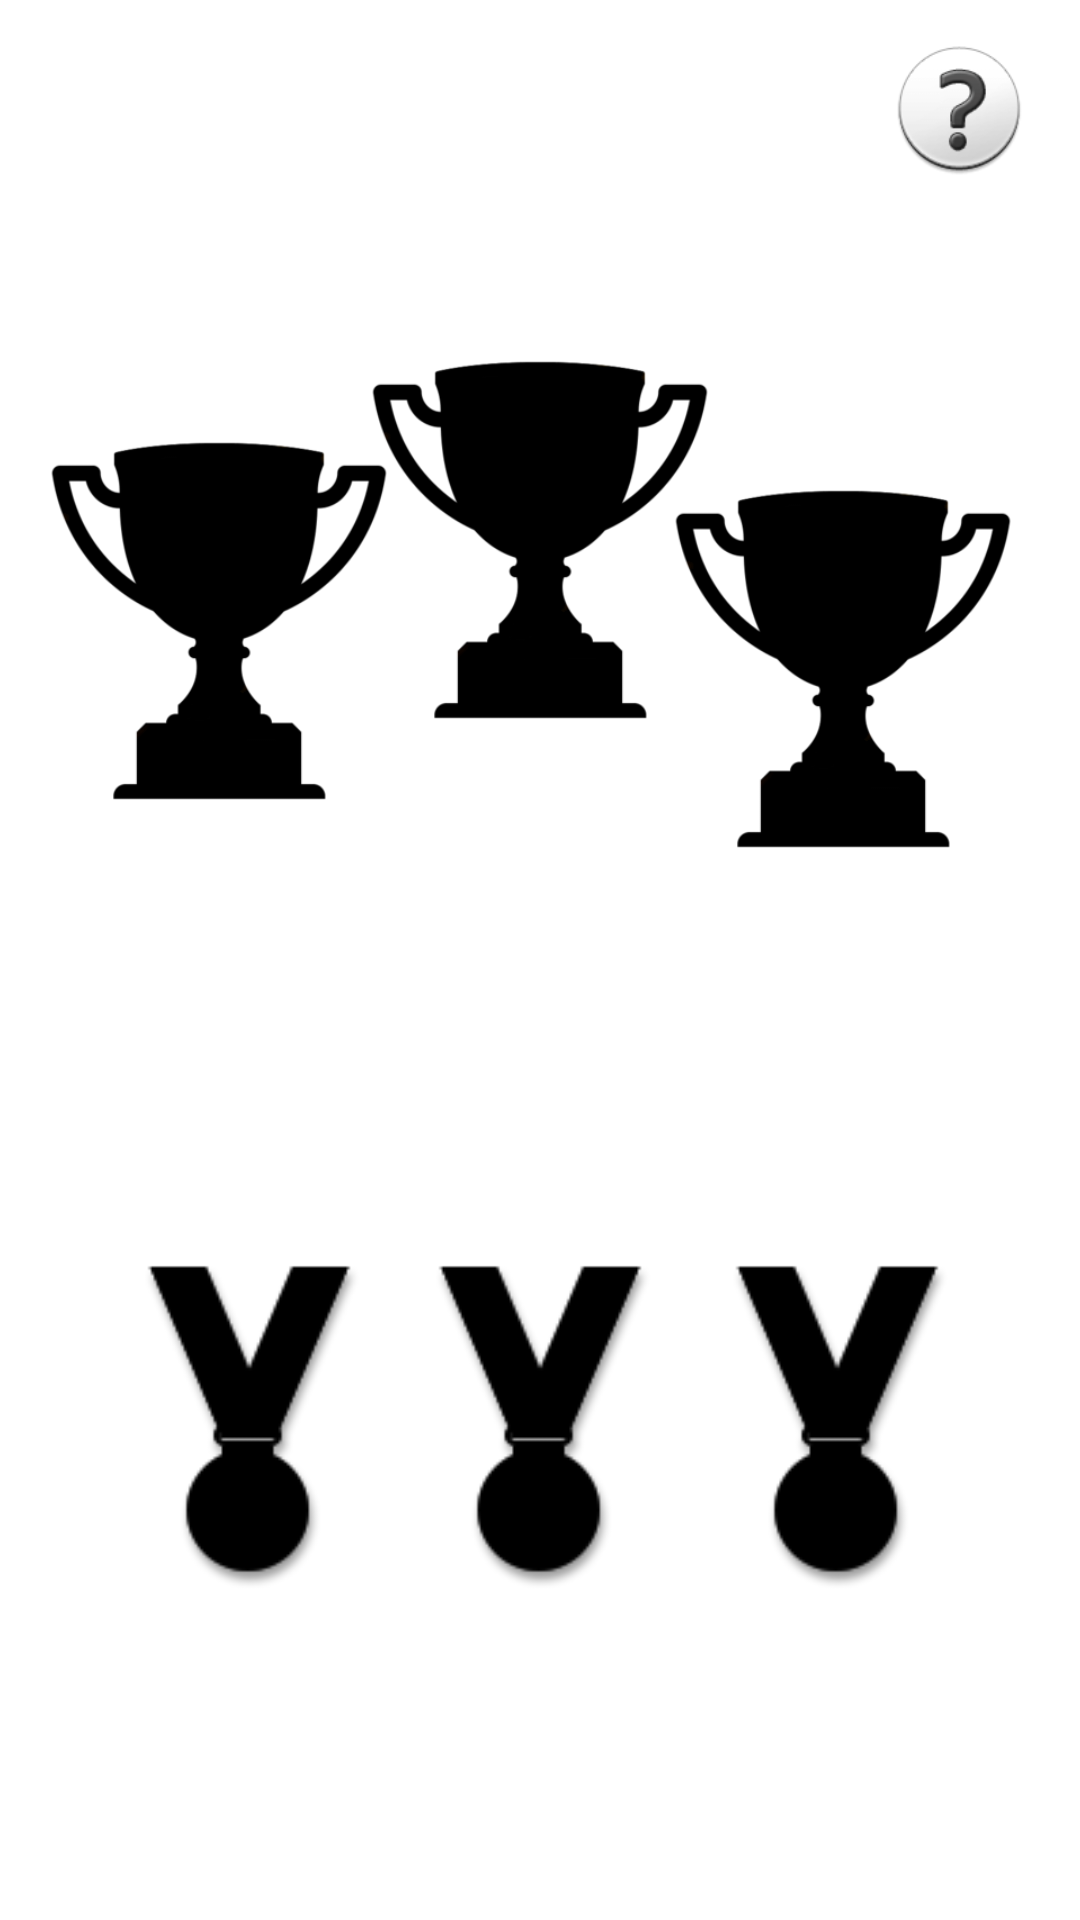

Named icons in this screenshot (1080 × 1920) and their bounding boxes, (x1, y1, x2, y2):
mblack: (148, 1266, 352, 1583), (439, 1266, 643, 1583), (736, 1266, 940, 1583)
questionmark: (898, 47, 1020, 173)
